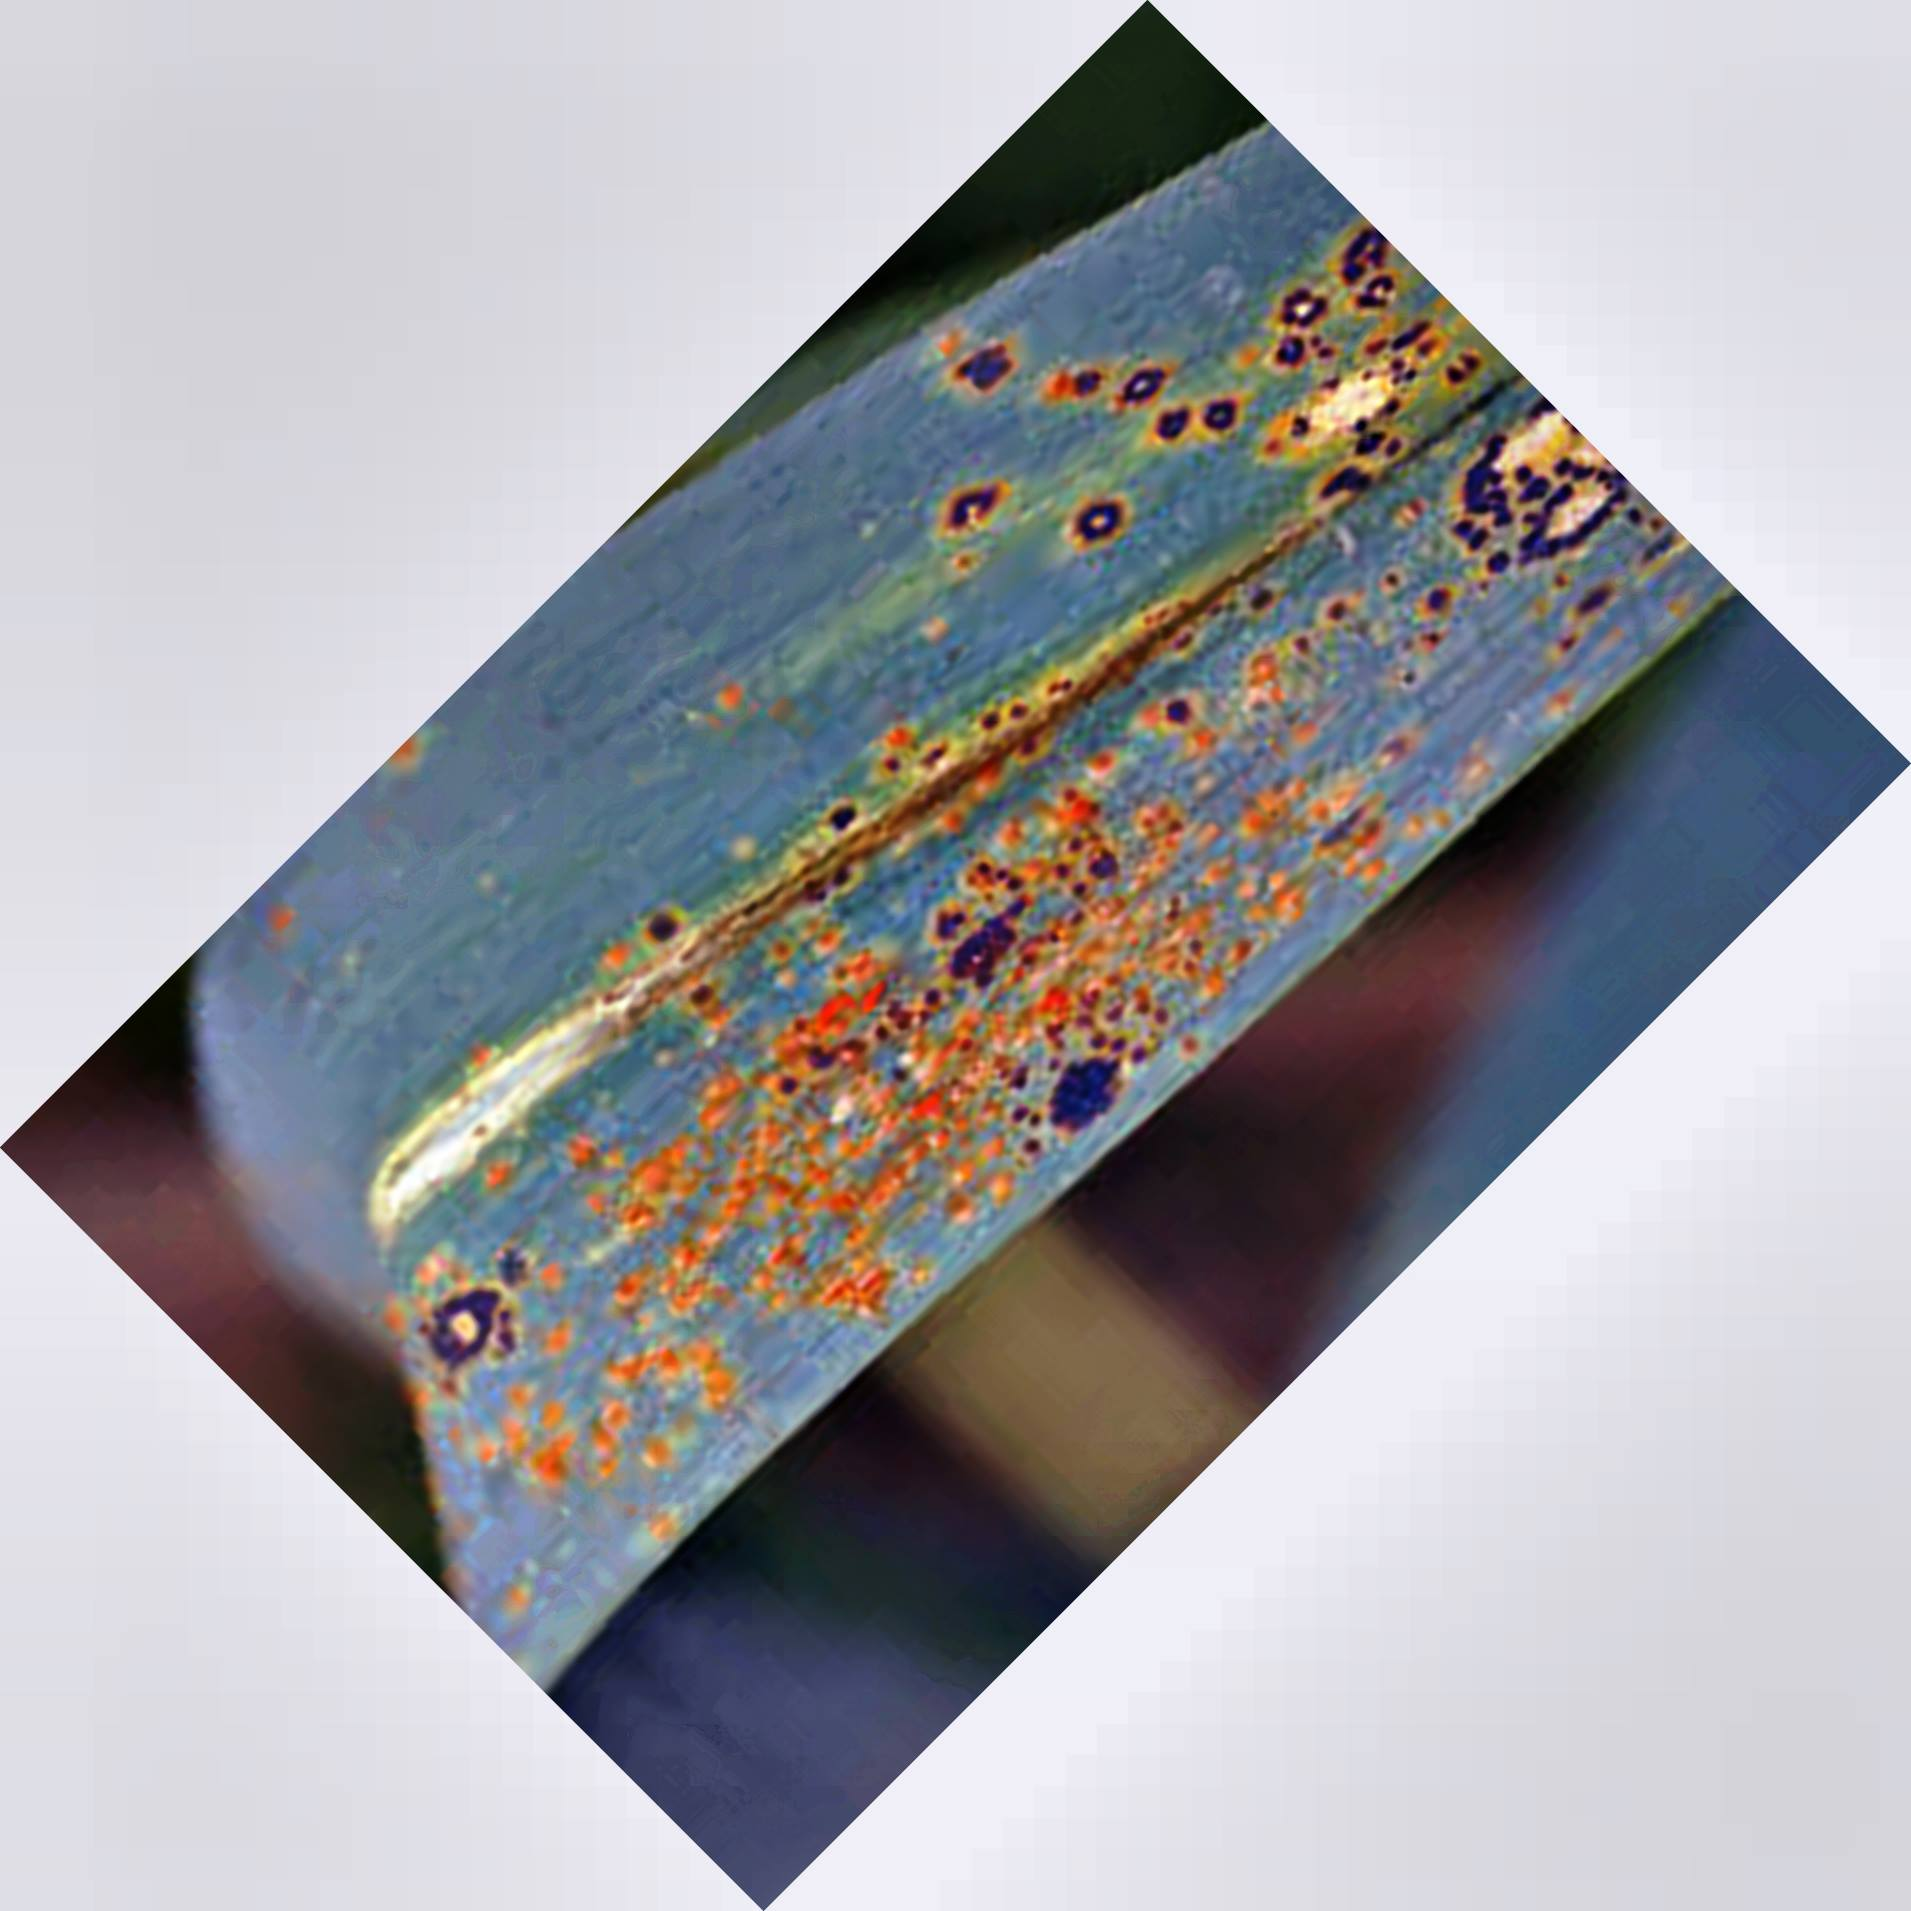Leaf Rust: (446, 245, 1589, 1640)
